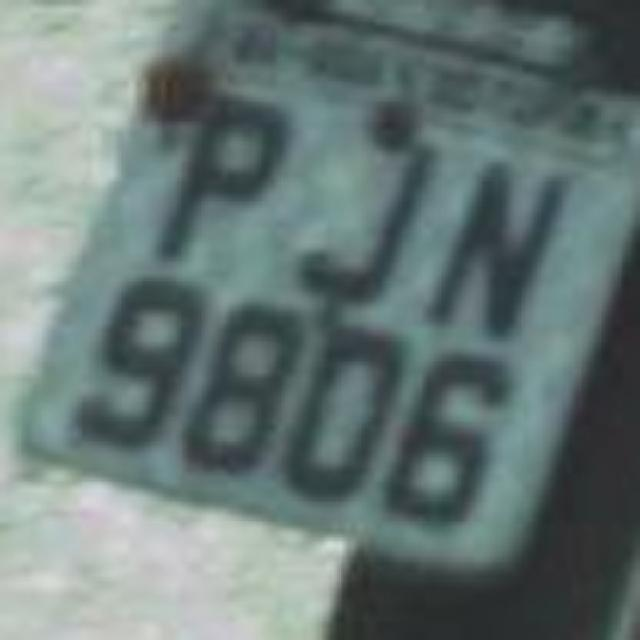0: (268, 300, 420, 520)
6: (372, 332, 528, 536)
8: (360, 324, 528, 544), (172, 264, 316, 504)
9: (32, 245, 232, 480)
J: (296, 112, 432, 312)
N: (404, 140, 571, 352)
P: (124, 84, 291, 284)
